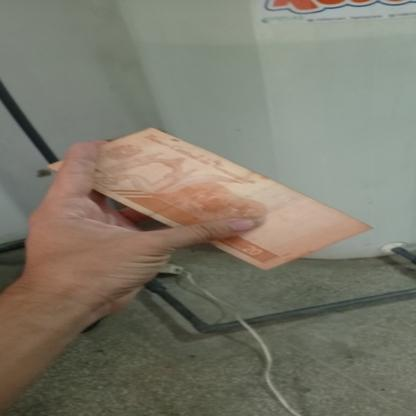twenty-back-vef: (44, 127, 373, 271)
